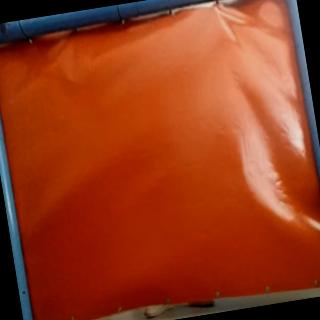Hit-hRxx: (204, 3, 219, 15)
